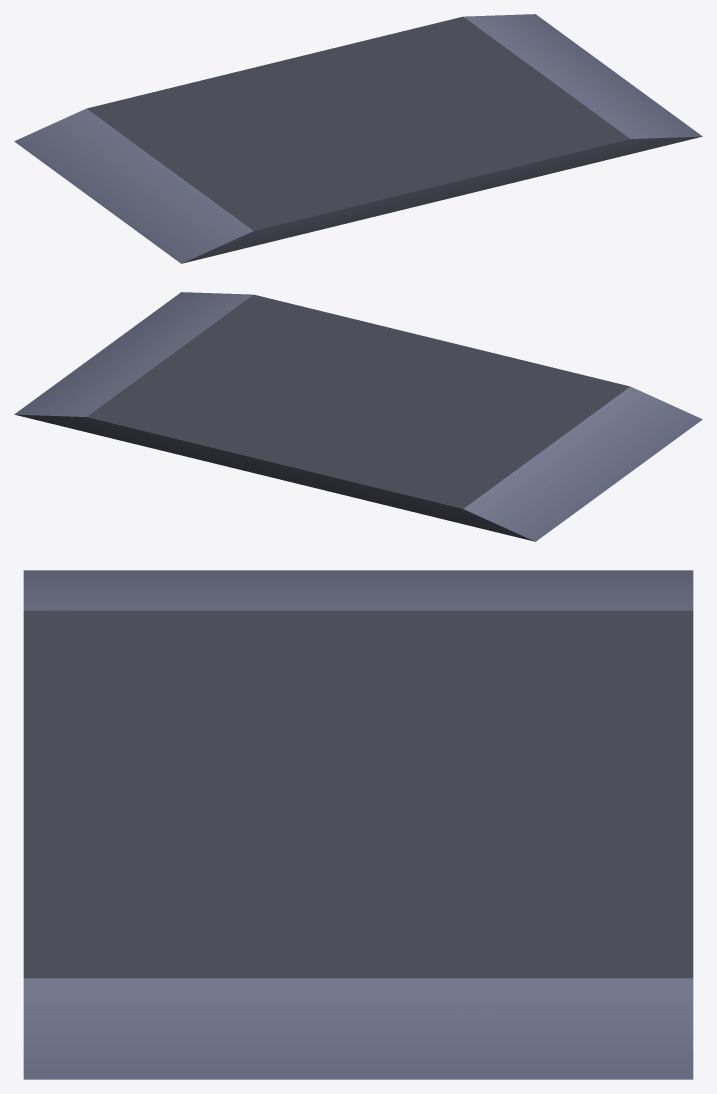
The model's file is sub-driveway-short.glb.
3 views of the same model, one above another, from view 1: azimuth 30°, elevation 25°; view 2: azimuth 150°, elevation 25°; view 3: azimuth 270°, elevation 25° (orthographic). The views are drawn at different scales.
Visible parts, largest first — view 1: driveway-short; view 2: driveway-short; view 3: driveway-short.
Part boxes in pixels (x1,y1,x2,y2): driveway-short: (14,14,702,263); driveway-short: (14,292,702,541); driveway-short: (23,570,693,1079).
Bounding box in the file's own units: 3.6 × 0.1002 × 2.
Materials: 1 (1 with a texture image).
